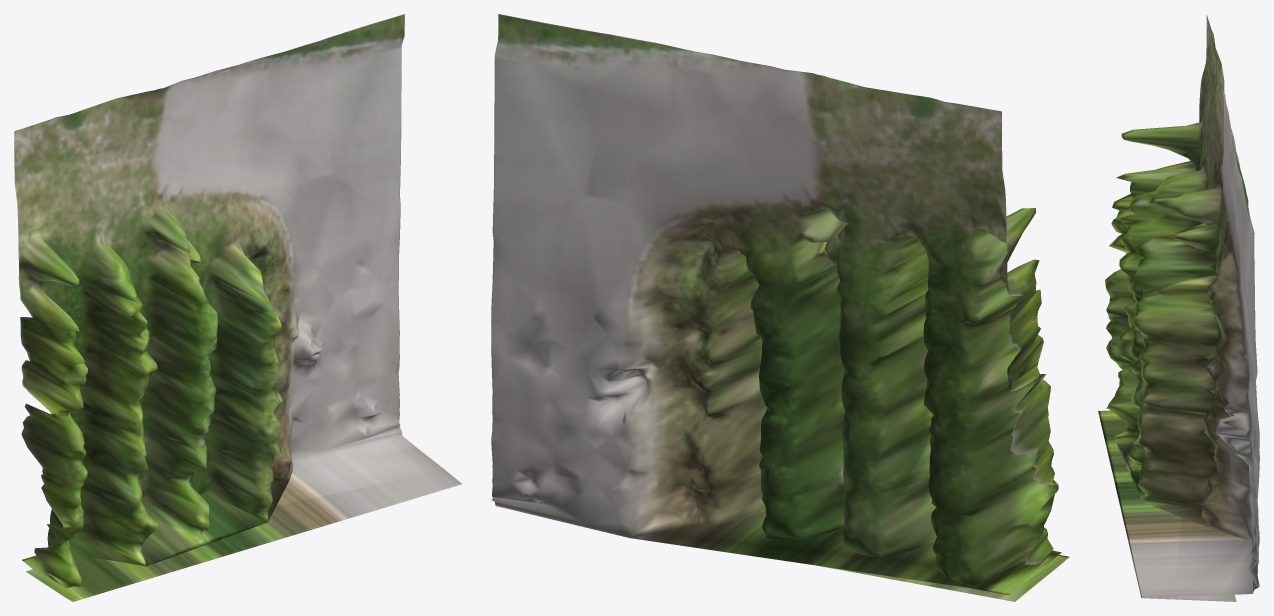
Rendered from map_0_50.obj.
3 views of the same model, side by side, from view 1: azimuth 30°, elevation 25°; view 2: azimuth 150°, elevation 25°; view 3: azimuth 270°, elevation 25° (orthographic). The views are drawn at different scales.
Size of the model in its own units: 10 by 10 by 3.66.
Materials: 1 (1 with a texture image).
